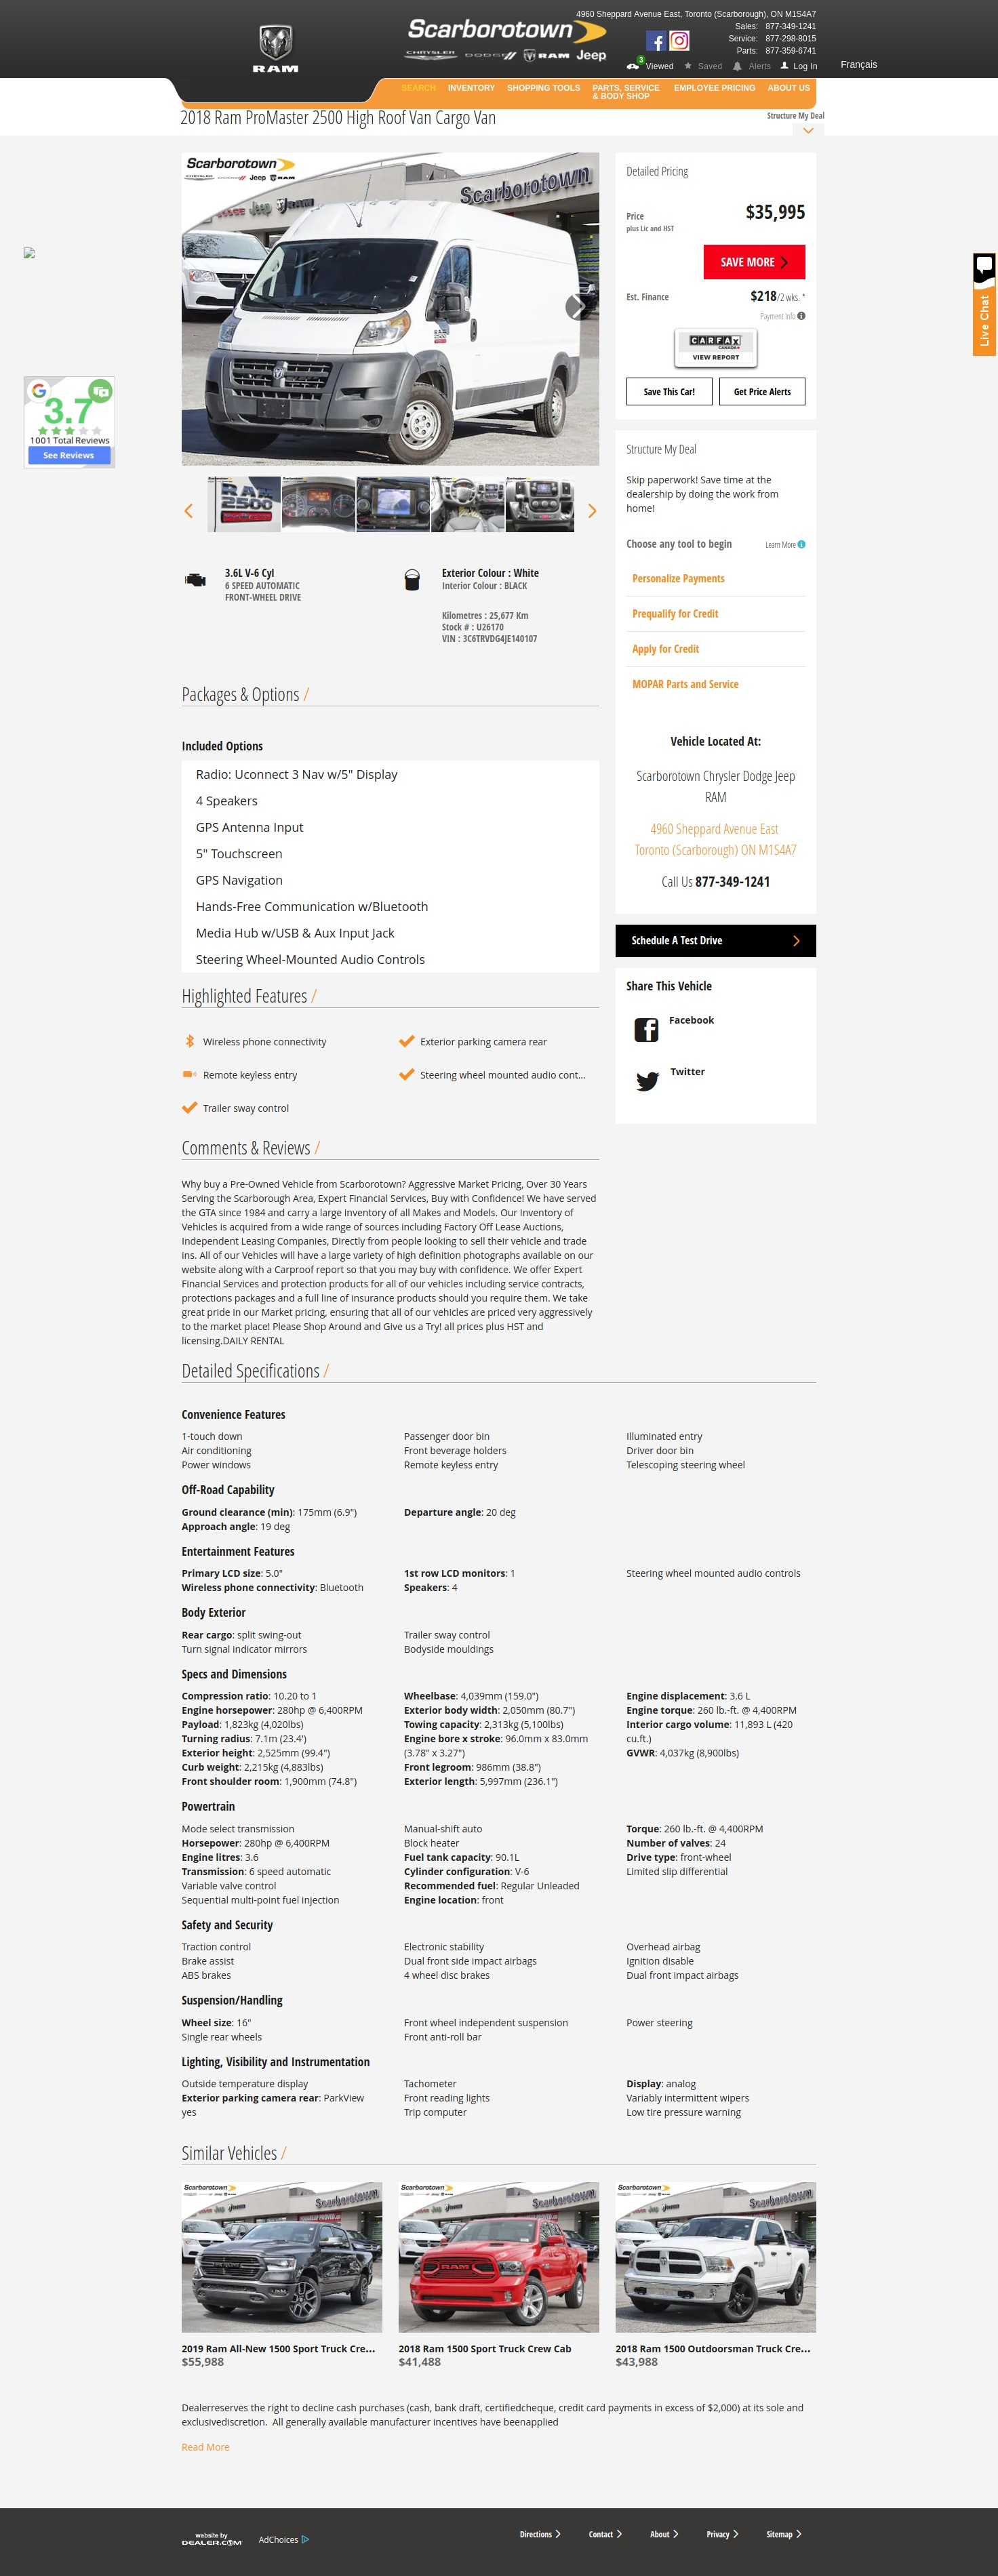car: (589, 504, 597, 519)
